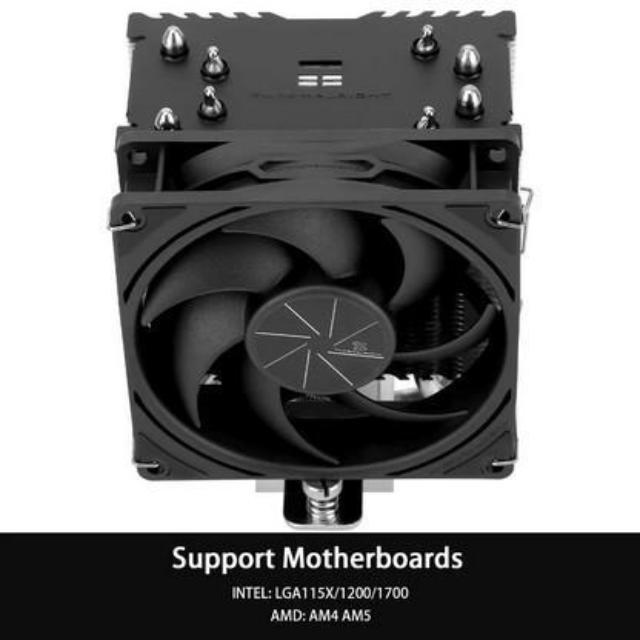CPU_Fan: (110, 6, 522, 508)
